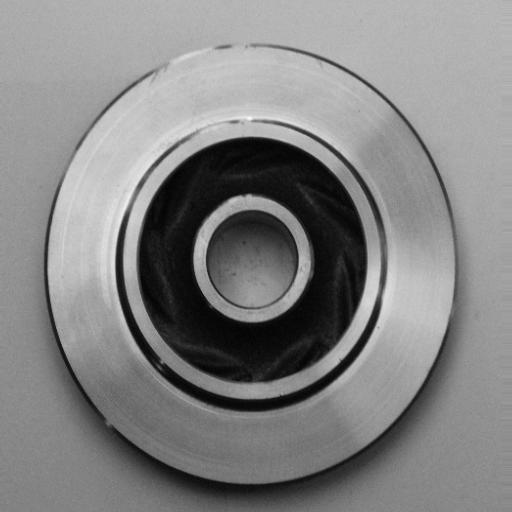scratch: (152, 30, 234, 82), (183, 114, 264, 147)
unpolished_casting: (43, 41, 472, 490)
